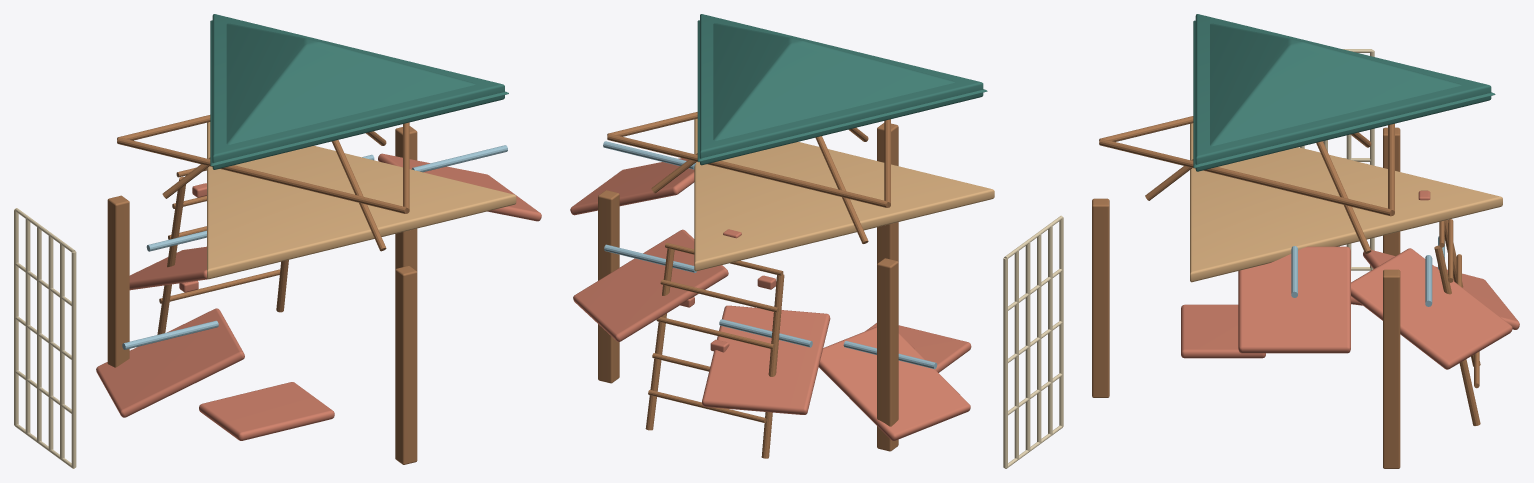
File: climbing_frame_c.glb
3 renders of one model, left to right at view 1: azimuth 30°, elevation 25°; view 2: azimuth 150°, elevation 25°; view 3: azimuth 270°, elevation 25°, orthographic. The views are drawn at different scales.
Parts seen in each view (by area): view 1: Tint, Triangular platform, Spiral chute, Tower post.004, Tower post.006, Platform rail.008, Tower post.005, Net post.006, Net post.010, Net post.008, Net post.011, Net post.007 (+8 smaller); view 2: Spiral chute, Tint, Triangular platform, Tower post.006, Tower post.005, Platform rail.007, Tower post.004, Net post.009, Wall stringer.001, Wall stringer, Net post.011, Net post.008 (+13 smaller); view 3: Tint, Spiral chute, Triangular platform, Tower post.005, Tower post.004, Platform rail.006, Wall stringer.001, Roof strut.001, Tower post.006, Platform rail.008, Platform rail.007.
Part boxes in pixels (<box>): Tint: <box>210,14,508,169</box>; Triangular platform: <box>207,122,516,279</box>; Spiral chute: <box>96,153,541,440</box>; Tower post.004: <box>395,266,417,464</box>; Tower post.006: <box>107,195,129,367</box>; Platform rail.008: <box>117,137,406,213</box>; Tower post.005: <box>395,126,417,271</box>; Net post.006: <box>71,251,76,468</box>; Net post.010: <box>25,218,30,434</box>; Net post.008: <box>48,235,53,450</box>; Net post.011: <box>14,209,18,425</box>; Net post.007: <box>60,243,64,459</box>; Spiral chute: <box>570,158,971,440</box>; Tint: <box>697,14,987,165</box>; Triangular platform: <box>694,118,994,271</box>; Tower post.006: <box>877,258,898,451</box>; Tower post.005: <box>598,190,619,383</box>; Platform rail.007: <box>607,134,887,207</box>; Tower post.004: <box>877,123,898,264</box>; Net post.009: <box>1025,242,1030,451</box>; Wall stringer.001: <box>645,248,674,430</box>; Wall stringer: <box>761,274,784,458</box>; Net post.011: <box>1003,258,1007,468</box>; Net post.008: <box>1037,234,1041,443</box>; Tint: <box>1193,14,1495,171</box>; Spiral chute: <box>1181,246,1519,369</box>; Triangular platform: <box>1190,123,1502,282</box>; Tower post.005: <box>1383,269,1400,468</box>; Tower post.004: <box>1092,198,1109,397</box>; Platform rail.006: <box>1099,139,1391,216</box>; Wall stringer.001: <box>1434,245,1480,425</box>; Roof strut.001: <box>1316,141,1371,253</box>; Tower post.006: <box>1383,127,1400,255</box>; Platform rail.008: <box>1099,116,1193,141</box>; Platform rail.007: <box>1388,123,1394,215</box>.
Bounding box in the file's own units: 2.79 × 2.02 × 2.21.
